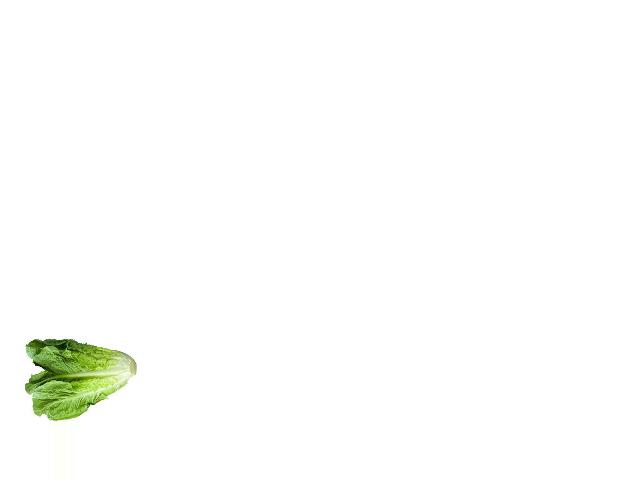lettuce: (25, 336, 139, 419)
